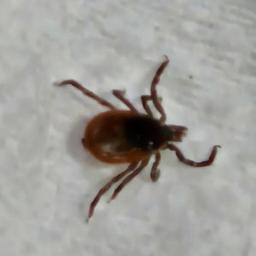Ixodes scapularis: (56, 53, 221, 223)
